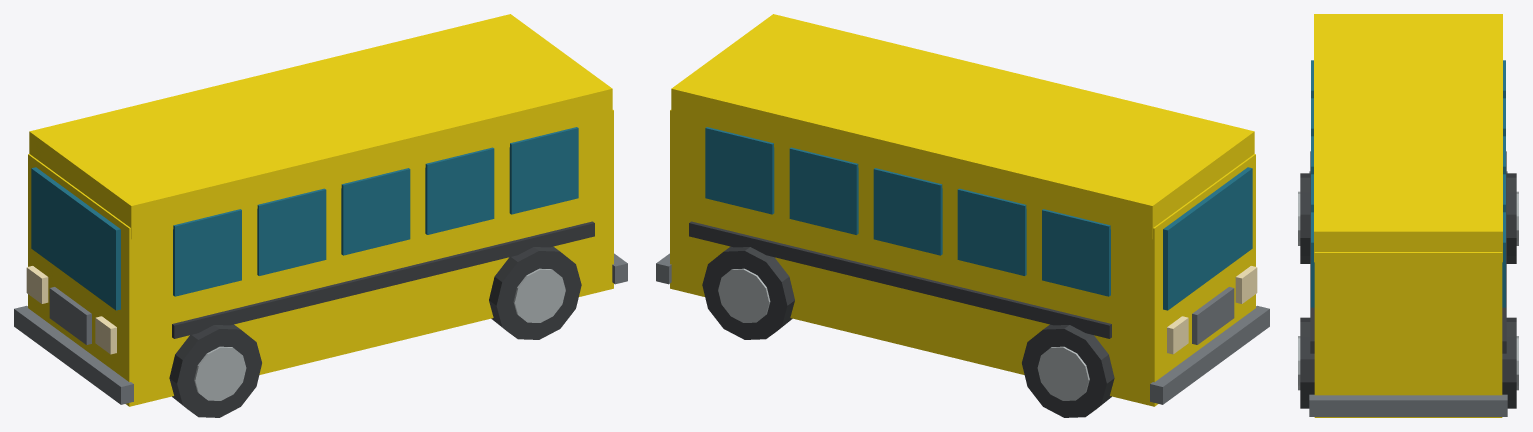
File: Vehicle_School_Bus.glb
3 views of the same model, side by side, from view 1: azimuth 30°, elevation 25°; view 2: azimuth 150°, elevation 25°; view 3: azimuth 270°, elevation 25° (orthographic). The views are drawn at different scales.
Visible parts, largest first — view 1: Vehicle_School_Bus; view 2: Vehicle_School_Bus; view 3: Vehicle_School_Bus.
Part boxes in pixels (x1,y1,x2,y2): Vehicle_School_Bus: (14, 14, 627, 417); Vehicle_School_Bus: (656, 14, 1269, 417); Vehicle_School_Bus: (1298, 14, 1518, 417).
Size of the model in its own units: 4.76 by 2.03 by 1.94.
